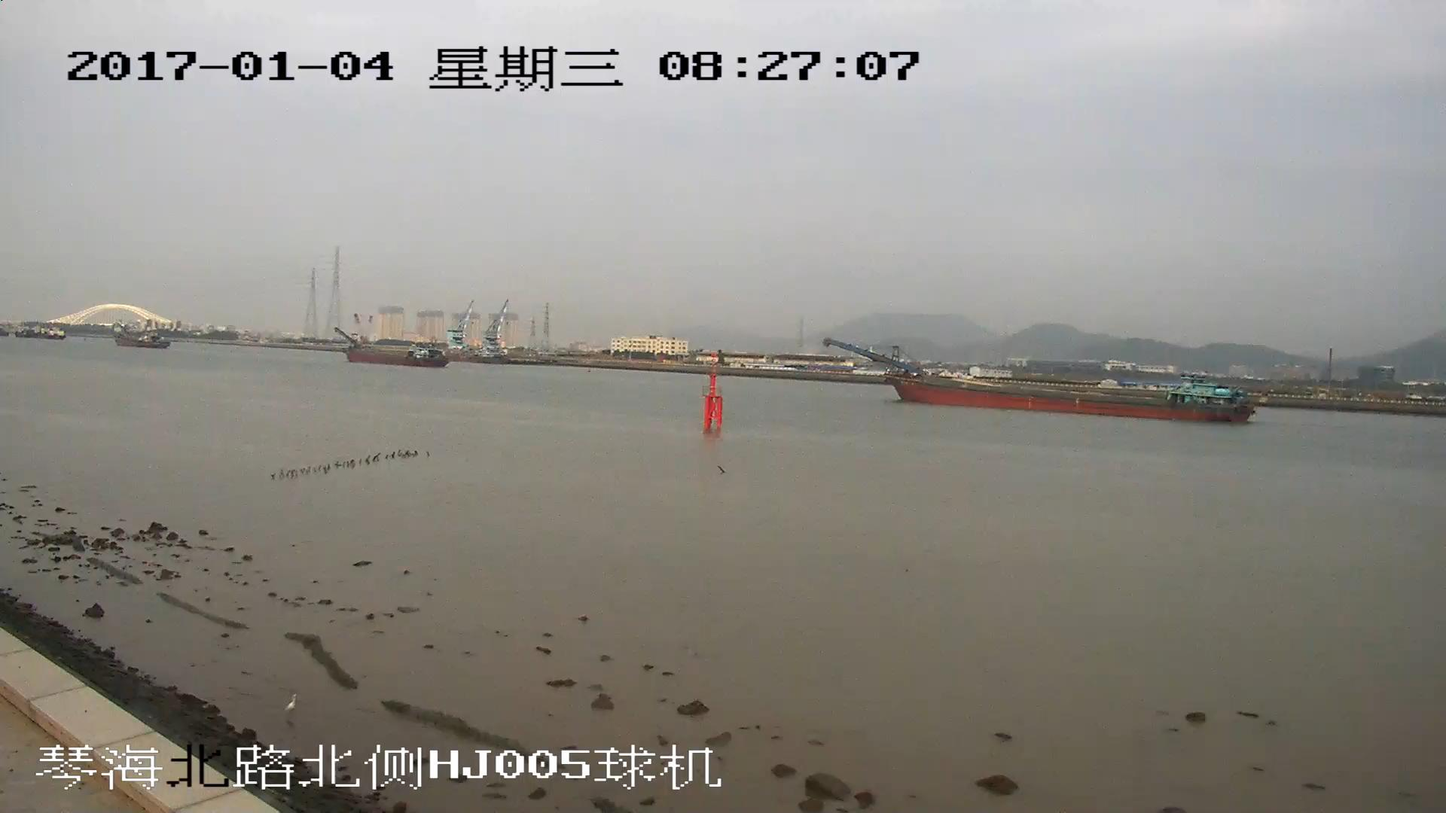bulk cargo carrier: (827, 338, 1251, 425), (334, 328, 445, 368)
